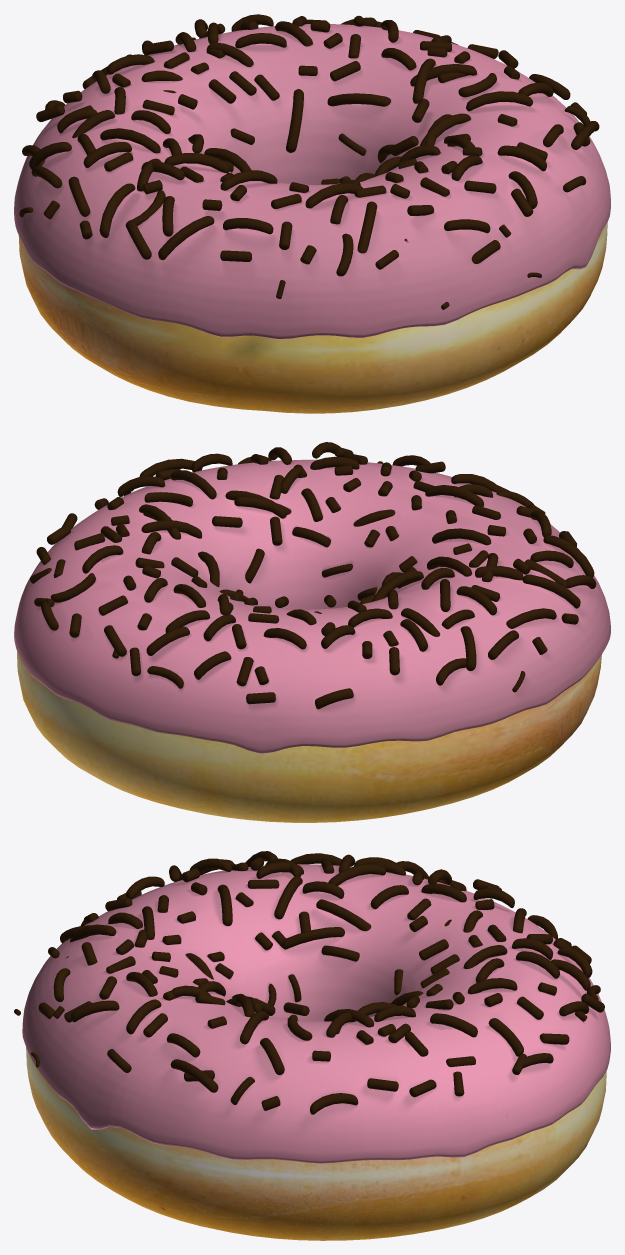
The model's file is strawberry chocolate vermicheli.glb.
The picture shows the model from 3 angles, top to bottom: view 1: azimuth 30°, elevation 25°; view 2: azimuth 150°, elevation 25°; view 3: azimuth 270°, elevation 25°; orthographic projection. The views are drawn at different scales.
Visible parts, largest first — view 1: coffee.001, strawberry, blue.002, Torus; view 2: strawberry, coffee.001, blue.002, Torus; view 3: strawberry, coffee.001, Torus, blue.002.
Boxes of the visible parts, x1=… form: coffee.001: x1=14, y1=24, x2=610, y2=338; strawberry: x1=14, y1=24, x2=610, y2=339; blue.002: x1=19, y1=14, x2=599, y2=309; Torus: x1=18, y1=222, x2=607, y2=413; strawberry: x1=14, y1=460, x2=606, y2=753; coffee.001: x1=14, y1=459, x2=610, y2=753; blue.002: x1=30, y1=442, x2=596, y2=709; Torus: x1=17, y1=651, x2=601, y2=822; strawberry: x1=23, y1=864, x2=610, y2=1163; coffee.001: x1=22, y1=864, x2=610, y2=1163; Torus: x1=26, y1=1047, x2=606, y2=1240; blue.002: x1=14, y1=851, x2=604, y2=1114.
Size of the model in its own units: 0.1989 by 0.0773 by 0.2.
Materials: 4 (2 with a texture image).
